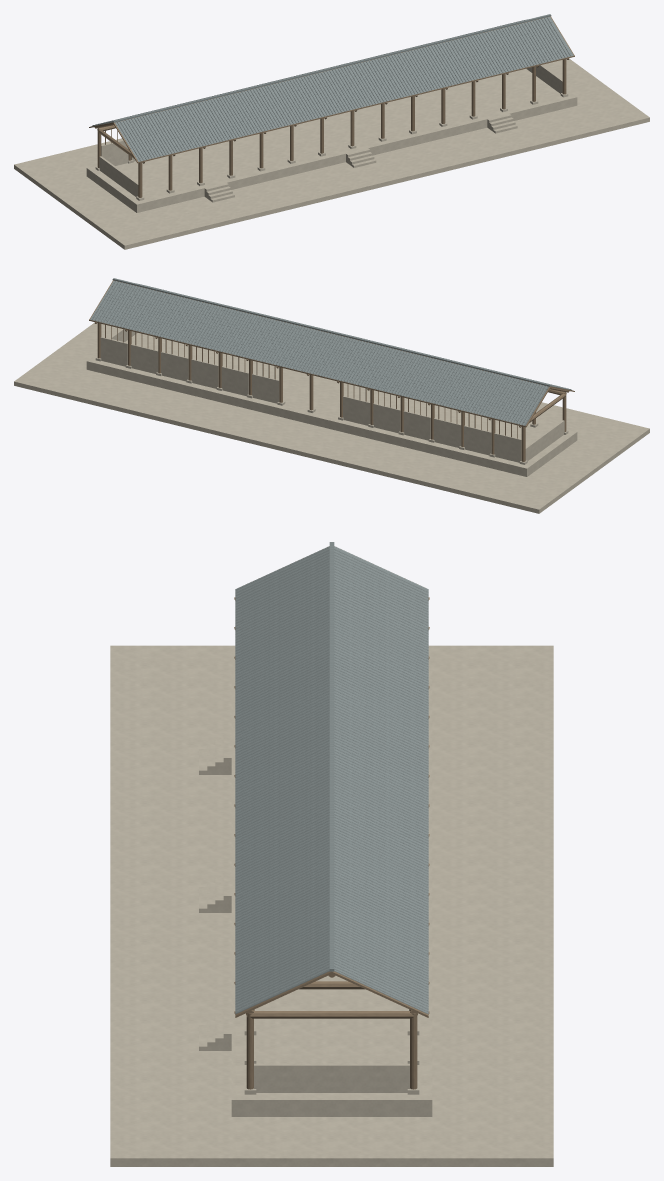
The model's file is hall-B.gltf.
3 views of the same model, one above another, from view 1: azimuth 30°, elevation 25°; view 2: azimuth 150°, elevation 25°; view 3: azimuth 270°, elevation 25° (orthographic). The views are drawn at different scales.
Visible parts, largest first — view 1: B_presentation_ground, B_tile_shells, B_platform, B_ridge_cap_C, B_roof_board, B_gable_lowwall, B_rear_infill, B_gable_lowwall.001; view 2: B_presentation_ground, B_tile_shells, B_platform, B_ridge_cap_C, B_roof_board.001, B_rear_infill.010, B_rear_infill.002, B_rear_infill.004, B_rear_infill.003, B_rear_infill.005, B_rear_infill.006, B_rear_infill.009 (+6 smaller); view 3: B_presentation_ground, B_tile_shells, B_platform, B_gable_lowwall.001, B_ridge_cap_C, B_cross_tie.014.
Boxes of the visible parts, x1,y1,x2,y2 form: B_presentation_ground: (14, 58, 649, 249); B_tile_shells: (92, 17, 573, 161); B_platform: (86, 69, 577, 212); B_ridge_cap_C: (112, 14, 551, 122); B_roof_board: (113, 16, 574, 163); B_gable_lowwall: (99, 156, 138, 196); B_rear_infill: (101, 140, 128, 165); B_gable_lowwall.001: (526, 65, 562, 93); B_presentation_ground: (14, 322, 649, 513); B_tile_shells: (90, 281, 571, 425); B_platform: (86, 333, 577, 476); B_ridge_cap_C: (112, 278, 551, 386); B_roof_board.001: (89, 280, 550, 427); B_rear_infill.010: (130, 344, 158, 373); B_rear_infill.002: (433, 418, 461, 447); B_rear_infill.004: (373, 403, 400, 433); B_rear_infill.003: (403, 410, 430, 440); B_rear_infill.005: (343, 395, 370, 425); B_rear_infill.006: (252, 373, 279, 403); B_rear_infill.009: (161, 351, 188, 381); B_presentation_ground: (110, 645, 553, 1166); B_tile_shells: (235, 546, 428, 1014); B_platform: (231, 670, 432, 1116); B_gable_lowwall.001: (254, 1063, 409, 1092); B_ridge_cap_C: (329, 542, 334, 971); B_cross_tie.014: (250, 1011, 413, 1018).
Size of the model in its own units: 52 by 7.33 by 19.
3 materials, 3 textured.
